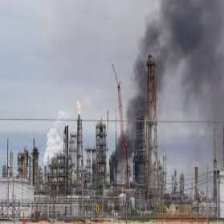smoke: (114, 5, 221, 168)
